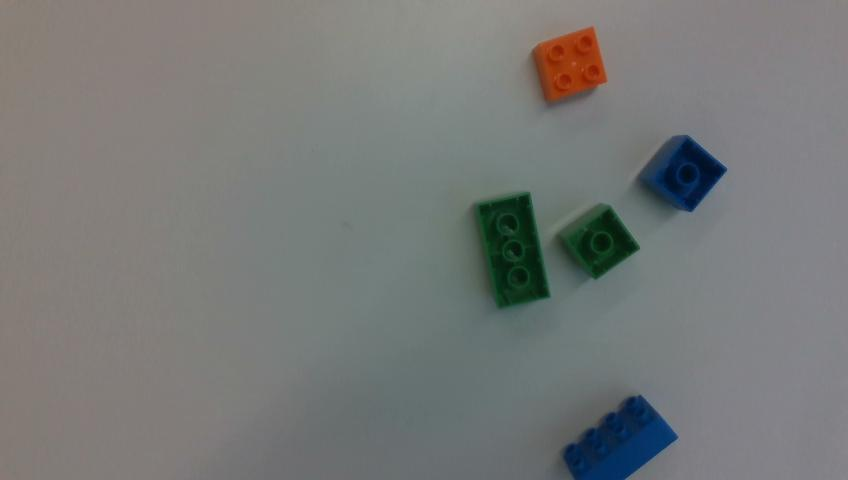2x2_blue: (638, 135, 726, 211)
2x2_green: (556, 204, 639, 279)
2x2_orange: (532, 27, 606, 102)
4x2_blue: (563, 395, 677, 479)
4x2_green: (477, 193, 549, 307)
